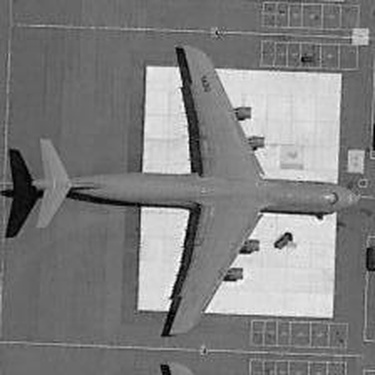airplane: (149, 354, 212, 372)
